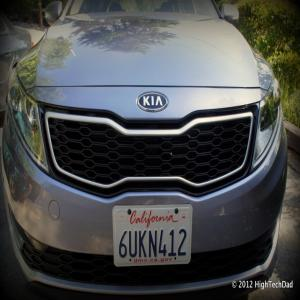Vehicle-registration-plate: (107, 205, 200, 271)
